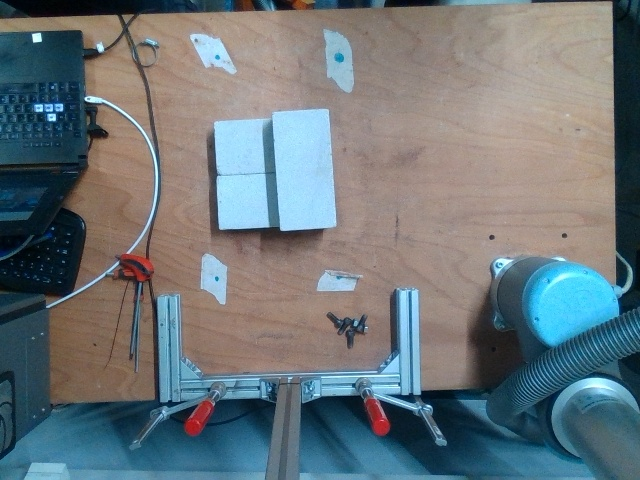brick: (270, 110, 335, 227)
